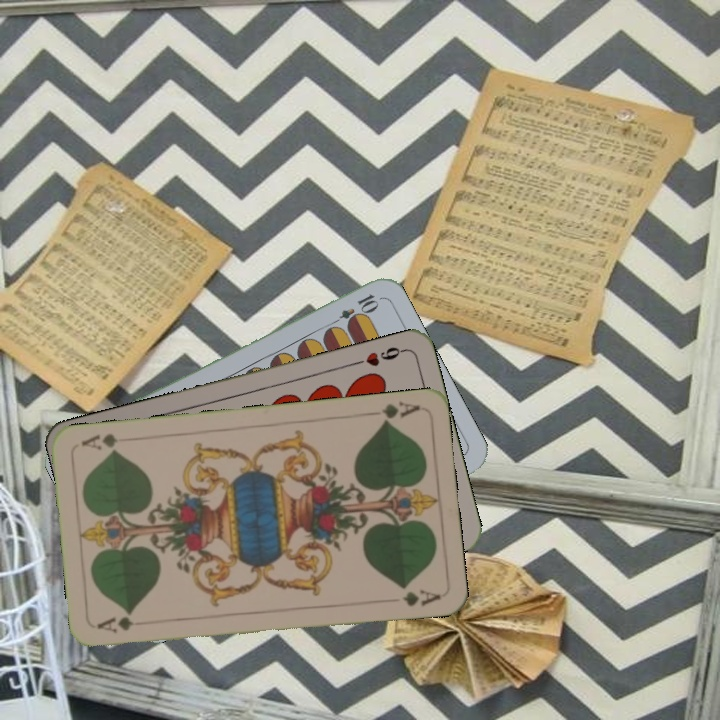E10: (325, 290, 381, 330)
GA: (363, 398, 422, 427), (93, 613, 153, 635)
H9: (350, 342, 408, 369)
